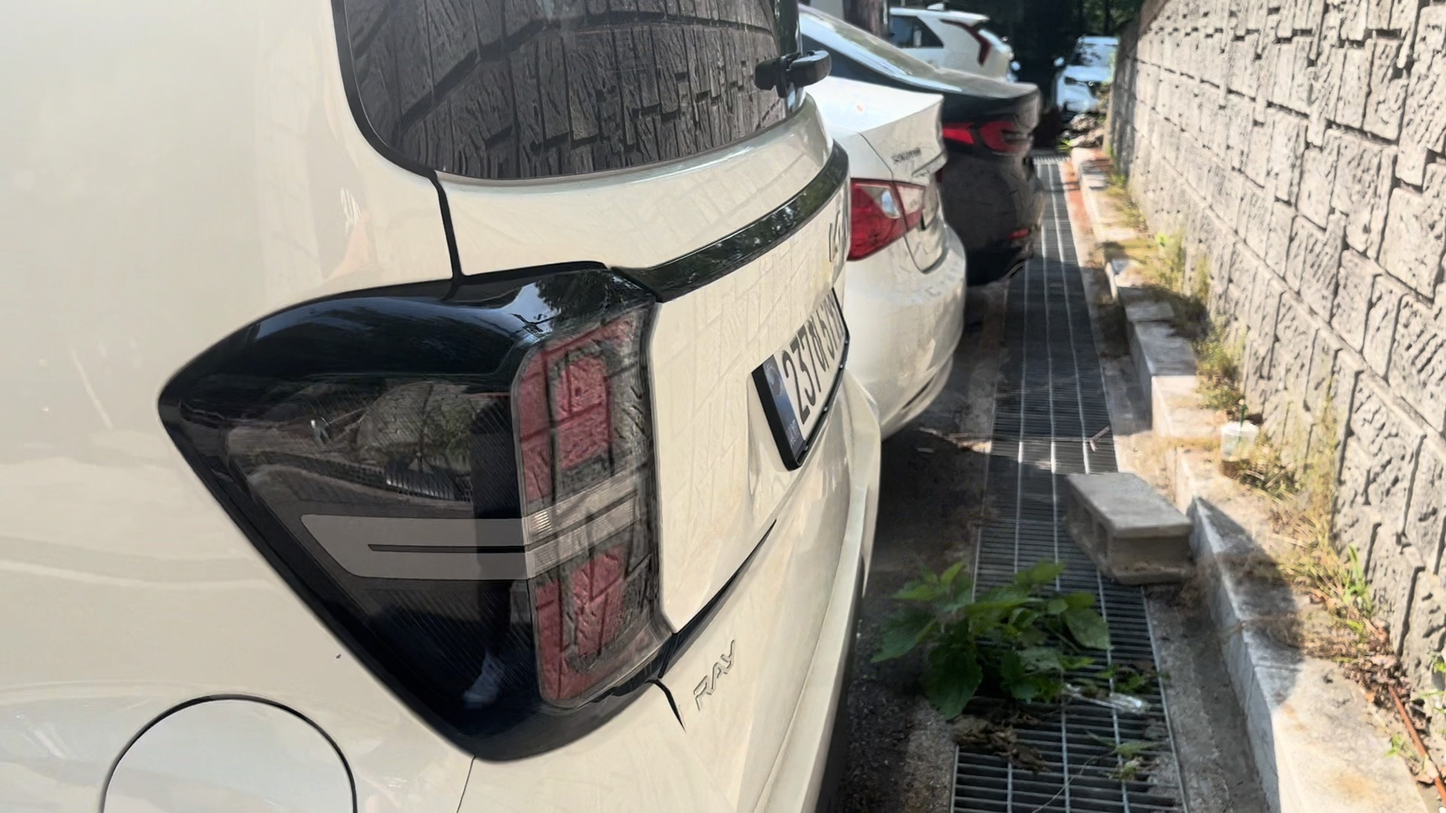license_plate: (754, 292, 846, 467)
tail_light: (161, 270, 670, 757), (847, 181, 926, 260)
